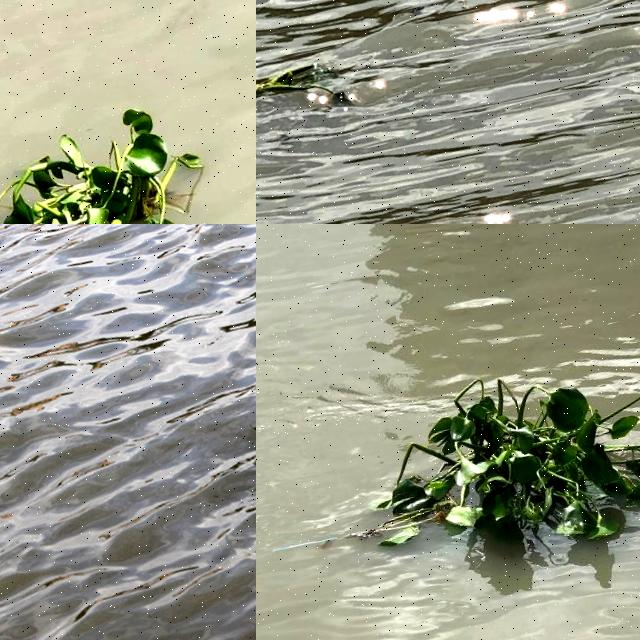water-hyacinth: (343, 337, 640, 601), (1, 88, 232, 225), (258, 53, 360, 119)
